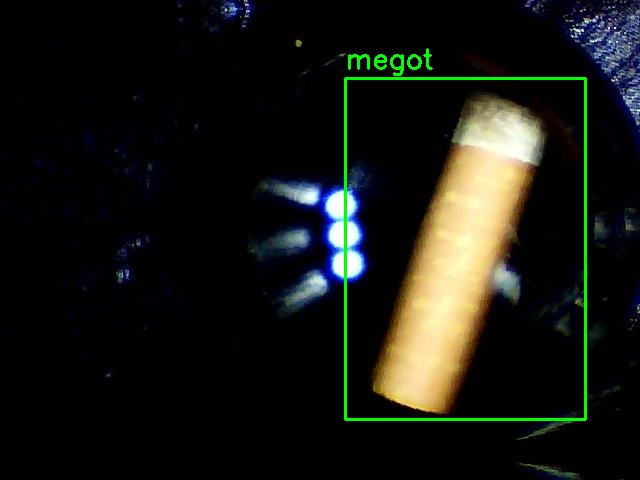megot: (345, 78, 585, 419)
